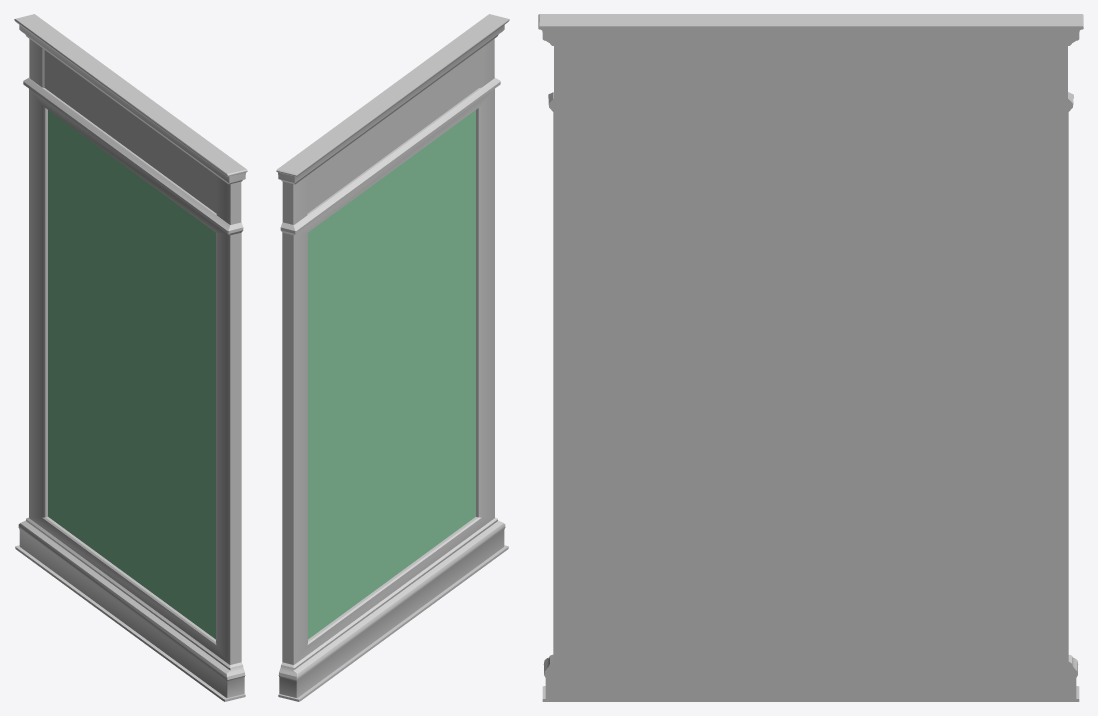
File: KOHLER2456T.FBX
3 renders of one model, left to right at view 1: azimuth 30°, elevation 25°; view 2: azimuth 150°, elevation 25°; view 3: azimuth 270°, elevation 25°, orthographic. The views are drawn at different scales.
Parts seen in each view (by area): view 1: KOHLER2456T; view 2: KOHLER2456T; view 3: KOHLER2456T.
Boxes of the visible parts, box(x1,y1,x2,y2) form: KOHLER2456T: box(14, 14, 247, 701); KOHLER2456T: box(276, 14, 509, 701); KOHLER2456T: box(538, 14, 1083, 701).
Bounding box in the file's own units: 102 × 2423 × 1773.
